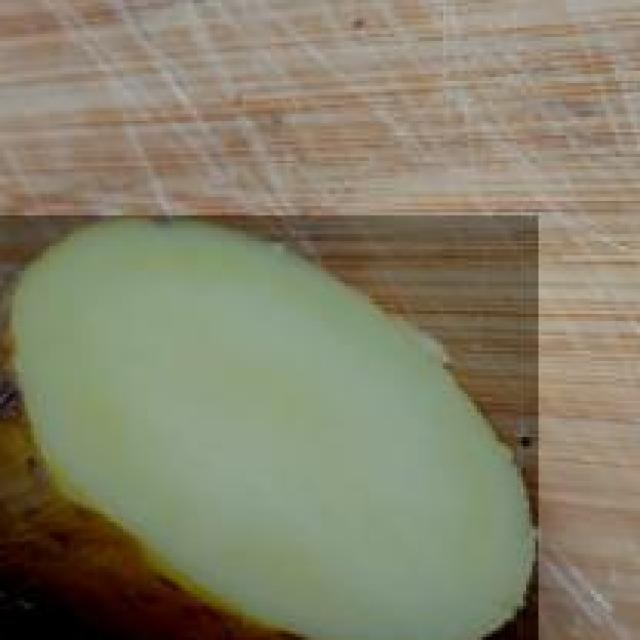potato: (0, 212, 538, 639)
